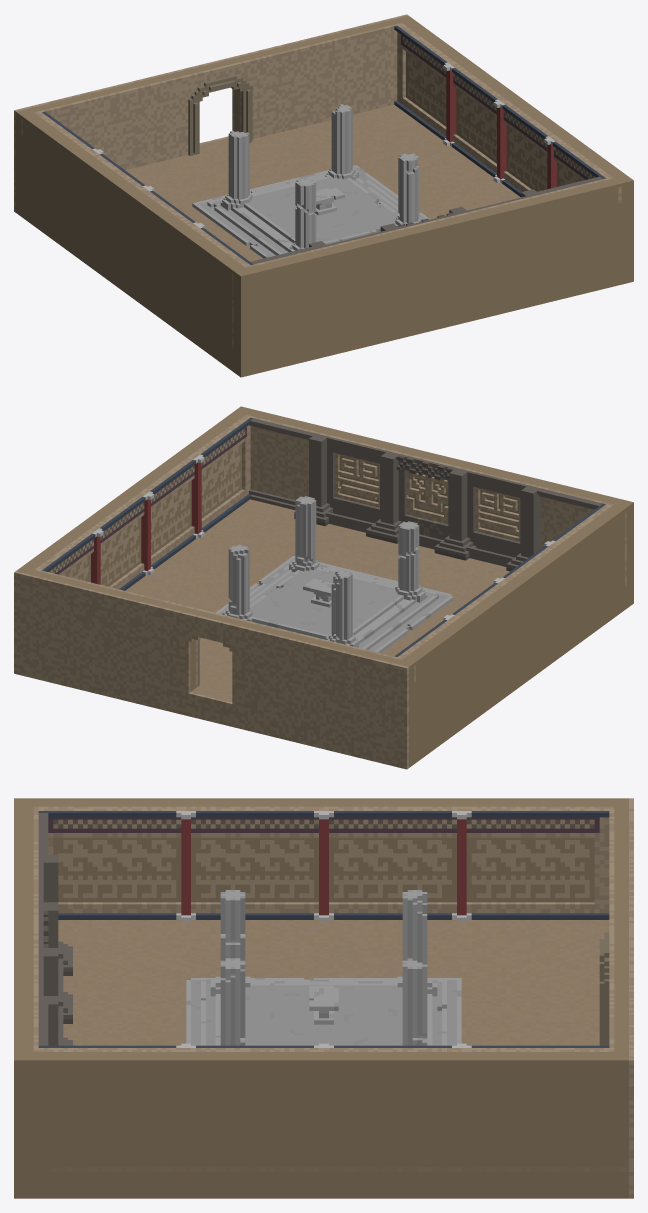
File: Small Room-1.obj
The picture shows the model from 3 angles, top to bottom: view 1: azimuth 30°, elevation 25°; view 2: azimuth 150°, elevation 25°; view 3: azimuth 270°, elevation 25°; orthographic projection. The views are drawn at different scales.
Size of the model in its own units: 12.6 by 3.1 by 12.6.
1 material, 1 textured.
